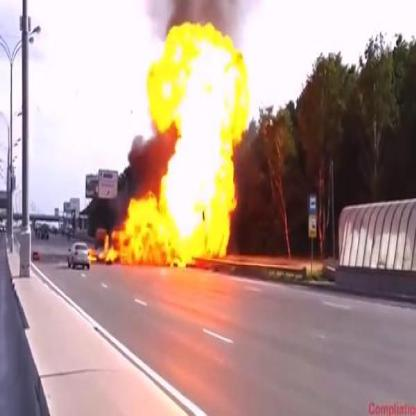fire: (97, 13, 258, 268), (88, 245, 96, 266)
